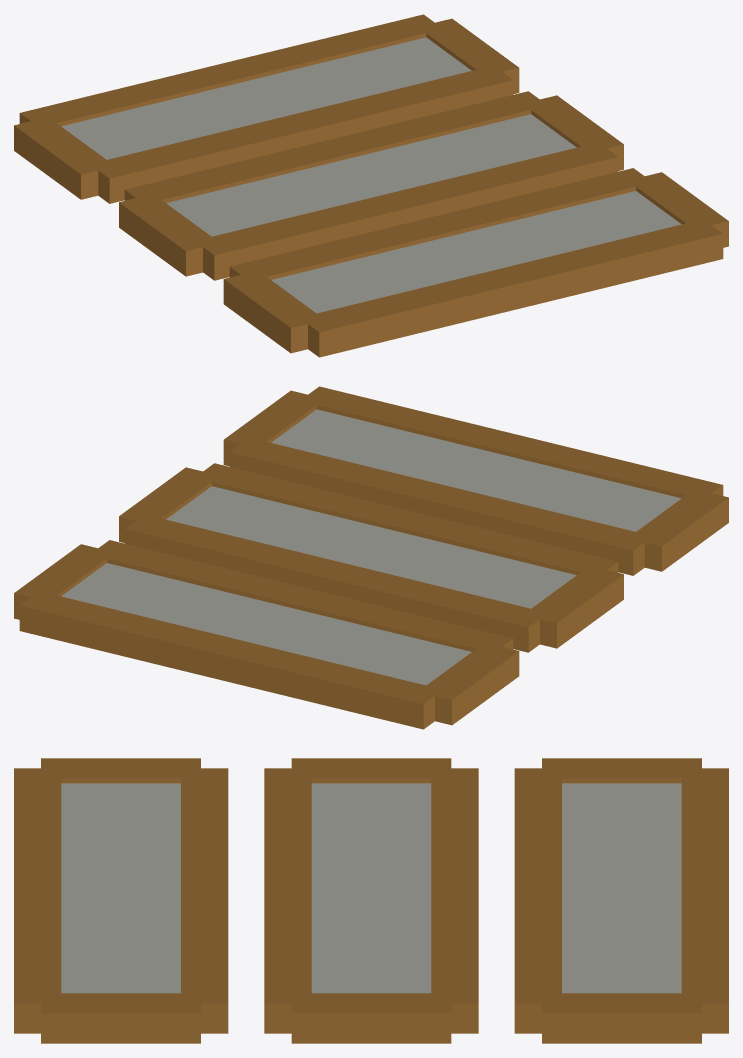
Rendered from SM_Bancales_v4_Seco_LOD1.fbx.
3 renders of one model, top to bottom at view 1: azimuth 30°, elevation 25°; view 2: azimuth 150°, elevation 25°; view 3: azimuth 270°, elevation 25°, orthographic. The views are drawn at different scales.
Visible parts, largest first — view 1: SM_vida_fuerte_v14_LOD1; view 2: SM_vida_fuerte_v14_LOD1; view 3: SM_vida_fuerte_v14_LOD1.
Boxes of the visible parts, box(x1,y1,x2,y2) form: SM_vida_fuerte_v14_LOD1: box(14, 14, 728, 357); SM_vida_fuerte_v14_LOD1: box(14, 386, 728, 729); SM_vida_fuerte_v14_LOD1: box(14, 758, 728, 1043).
Bounding box in the file's own units: 4.34 × 0.24 × 5.14.
